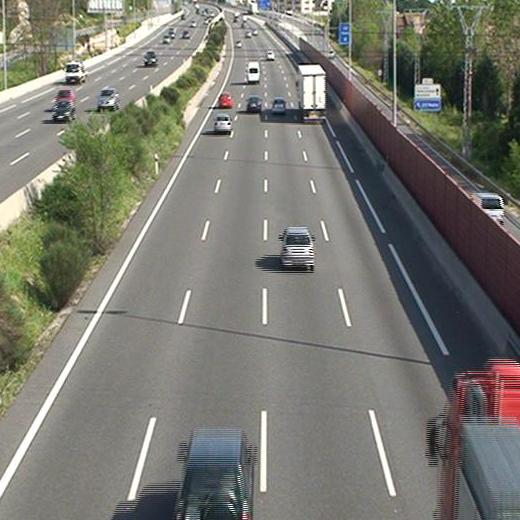car: (173, 431, 252, 520), (280, 228, 315, 268), (214, 115, 231, 134), (271, 99, 287, 113), (246, 97, 262, 111), (219, 93, 233, 107), (265, 50, 275, 60)
truck: (297, 65, 327, 121)
van: (246, 62, 261, 82)
